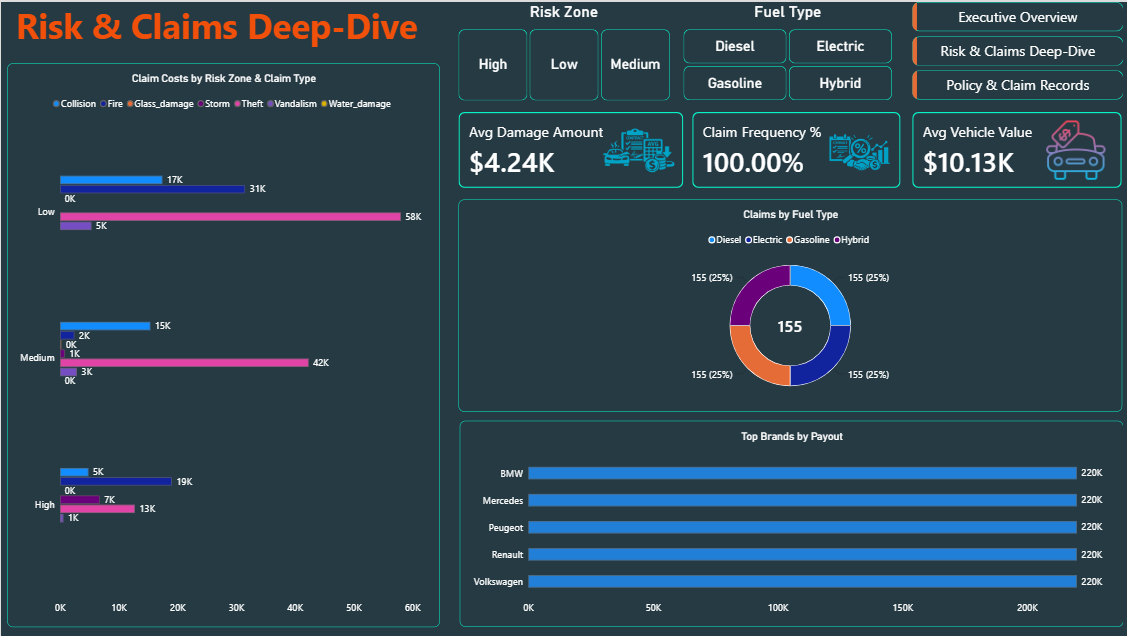

What the dashboard file says about the page in this screenshot:
{"tool":"powerbi","page":{"name":"Risk & Claims Deep-Dive","canvas":[1920,1080],"ordinal":1},"visuals":[{"type":"textbox","box":[10.6,0,711.7,85],"z":0},{"type":"advancedSlicerVisual","title":"Risk Zone","fields":{"Values":["public clean_contracts.risk_zone"]},"box":[777.5,0,359,167.8],"z":1000},{"type":"advancedSlicerVisual","title":"Fuel Type","fields":{"Values":["public clean_vehicles.fuel_type"]},"box":[1159.9,0,354.8,167.8],"z":2000},{"type":"cardVisual","fields":{"Data":["_Measures.Avg Damage Amount"]},"box":[777.5,186.9,382.4,129.6],"z":3000},{"type":"cardVisual","fields":{"Data":["_Measures.Claim Frequency %"]},"box":[1174.8,186.9,354.8,129.6],"z":4000},{"type":"cardVisual","fields":{"Data":["_Measures.Avg Vehicle Value"]},"box":[1548.7,186.9,356.9,129.6],"z":5000},{"type":"clusteredBarChart","title":"Top Brands by Payout","fields":{"Category":["public clean_vehicles.brand"],"Y":["_Measures.Total Paid Claims"]},"box":[779.6,711.7,1128,350.5],"z":6000},{"type":"donutChart","title":"Claims by Fuel Type","fields":{"Category":["public clean_vehicles.fuel_type"],"Y":["_Measures.Total Claims"]},"box":[777.5,335.7,1128,361.1],"z":7000},{"type":"clusteredBarChart","title":"Claim Costs by Risk Zone & Claim Type","fields":{"Category":["public clean_contracts.risk_zone"],"Y":["_Measures.Total Paid Claims"],"Series":["public clean_claims.claim_type"]},"box":[10.6,104.1,735,958.1],"z":8000},{"type":"image","box":[1009.1,163.6,165.7,178.4],"z":9000},{"type":"image","box":[1389.3,195.4,140.2,121.1],"z":10000},{"type":"image","box":[1767.5,199.7,119,104.1],"z":11000},{"type":"pageNavigator","box":[1548.7,0,359,167.8],"z":11001}]}

Visuals, with their boxes in screenshot pixels (x1, y1, x2, y2), scaled from the page's 1920x1080 canvas onto the 1127x636 screenshot:
textbox: 6,0,424,50
"Risk Zone" advancedSlicerVisual: 456,0,667,99
"Fuel Type" advancedSlicerVisual: 681,0,889,99
cardVisual - _Measures.Avg Damage Amount: 456,110,681,186
cardVisual - _Measures.Claim Frequency %: 690,110,898,186
cardVisual - _Measures.Avg Vehicle Value: 909,110,1119,186
"Top Brands by Payout" clusteredBarChart: 458,419,1120,626
"Claims by Fuel Type" donutChart: 456,198,1118,410
"Claim Costs by Risk Zone & Claim Type" clusteredBarChart: 6,61,438,626
image: 592,96,690,201
image: 815,115,898,186
image: 1037,118,1107,179
pageNavigator: 909,0,1120,99
